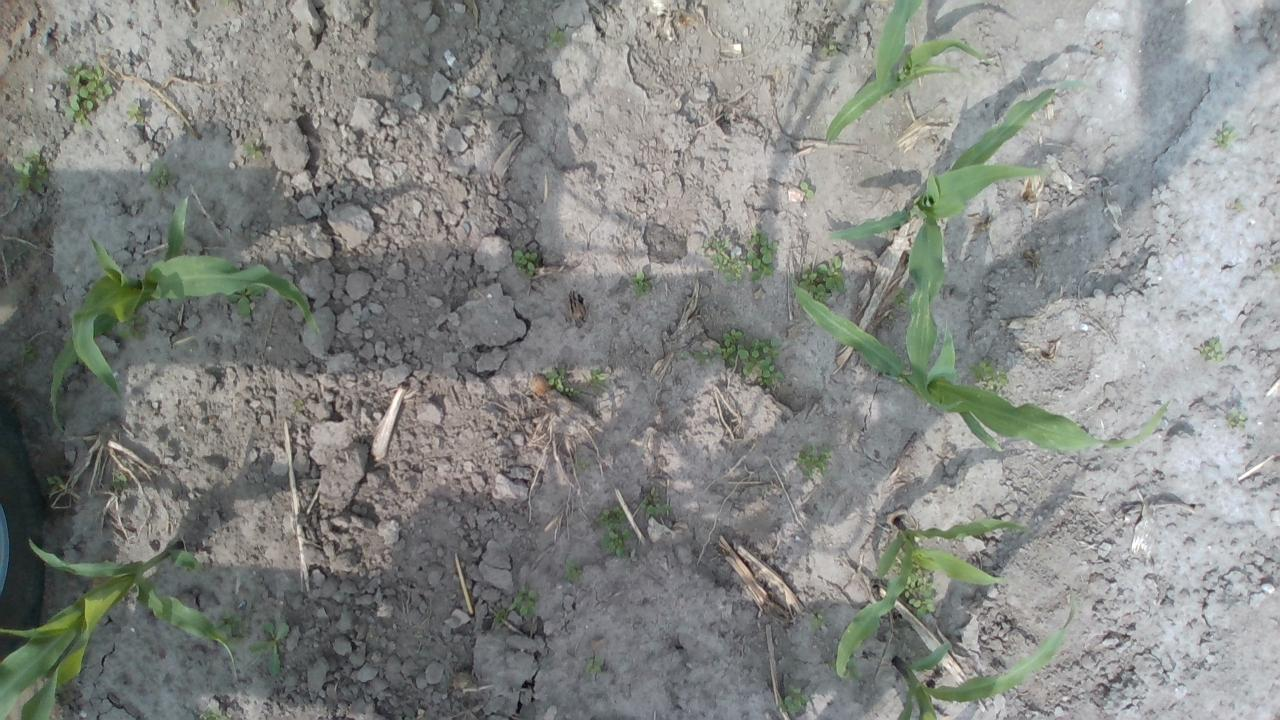Maize: (826, 79, 1091, 410), (49, 196, 322, 436), (790, 282, 1170, 454), (0, 535, 226, 720), (837, 514, 1031, 673), (886, 584, 1078, 720), (826, 0, 997, 143)
Weeds: (710, 328, 786, 387), (60, 60, 114, 131), (248, 622, 292, 676), (696, 236, 744, 284), (901, 559, 940, 618), (798, 256, 848, 302), (596, 504, 634, 558), (11, 146, 50, 195), (744, 227, 777, 282), (968, 356, 1009, 397), (224, 285, 268, 318), (796, 442, 831, 479), (639, 485, 673, 520), (147, 158, 176, 198), (212, 610, 246, 644), (776, 684, 810, 714), (508, 586, 539, 618), (118, 312, 148, 344), (829, 656, 862, 682), (1198, 337, 1226, 367), (510, 248, 539, 276), (562, 557, 588, 582), (1212, 126, 1239, 150), (543, 26, 568, 50), (630, 271, 652, 298), (242, 136, 266, 160), (545, 366, 565, 394), (679, 350, 714, 366), (1224, 406, 1246, 431), (196, 705, 232, 720), (588, 368, 608, 391), (891, 286, 910, 310), (586, 653, 606, 675), (110, 471, 132, 491), (45, 476, 67, 494), (126, 103, 144, 123), (19, 342, 36, 362), (810, 608, 826, 629), (800, 180, 814, 200), (821, 44, 840, 57), (492, 609, 508, 624), (892, 550, 903, 571), (56, 408, 75, 420), (564, 386, 582, 398), (1232, 200, 1247, 214), (292, 398, 304, 411), (576, 461, 590, 472), (218, 0, 230, 6), (1273, 263, 1280, 273)
